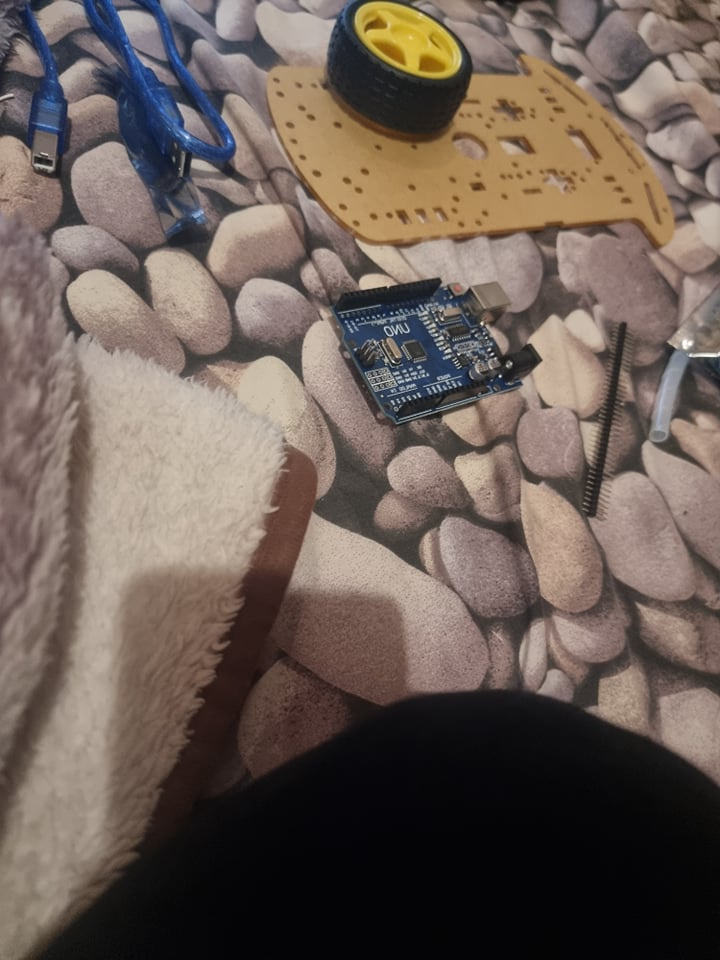UNO R3: (332, 277, 541, 427)
